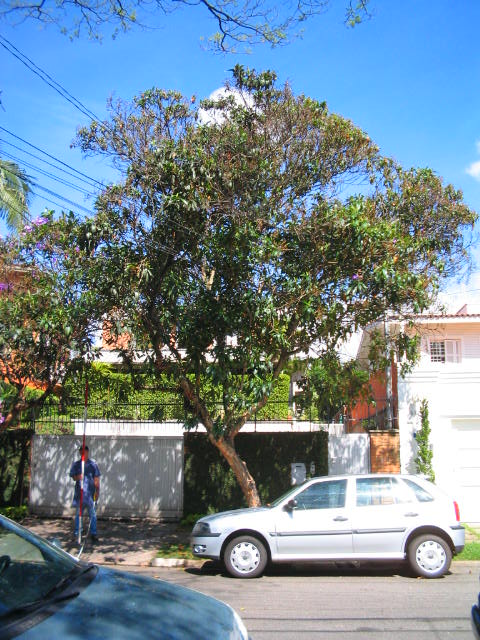crown: (20, 65, 480, 414)
stem: (208, 441, 269, 550)
stick: (74, 375, 91, 544)
tree: (17, 64, 480, 551)
